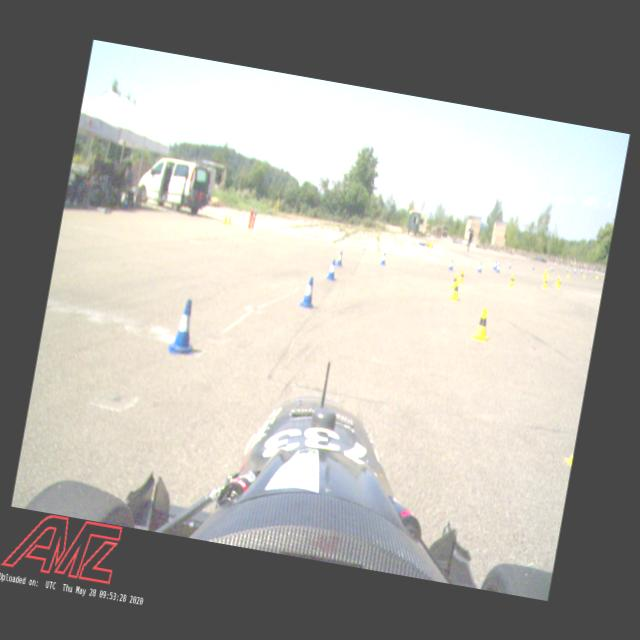blue_cone: (165, 296, 202, 356), (299, 274, 317, 310), (326, 258, 338, 282), (335, 250, 344, 266), (379, 252, 387, 266), (447, 258, 454, 271), (477, 262, 483, 272), (492, 260, 497, 270), (496, 262, 500, 272), (550, 264, 554, 272), (572, 266, 576, 274), (508, 261, 512, 268)
yellow_cone: (470, 304, 494, 343), (449, 279, 462, 301), (450, 272, 460, 290), (458, 268, 466, 284), (508, 273, 516, 287), (221, 214, 228, 226), (542, 275, 548, 289), (226, 215, 232, 225), (556, 278, 562, 288), (542, 269, 547, 280), (556, 274, 560, 284), (566, 270, 570, 278), (546, 268, 550, 275), (582, 271, 586, 278)
